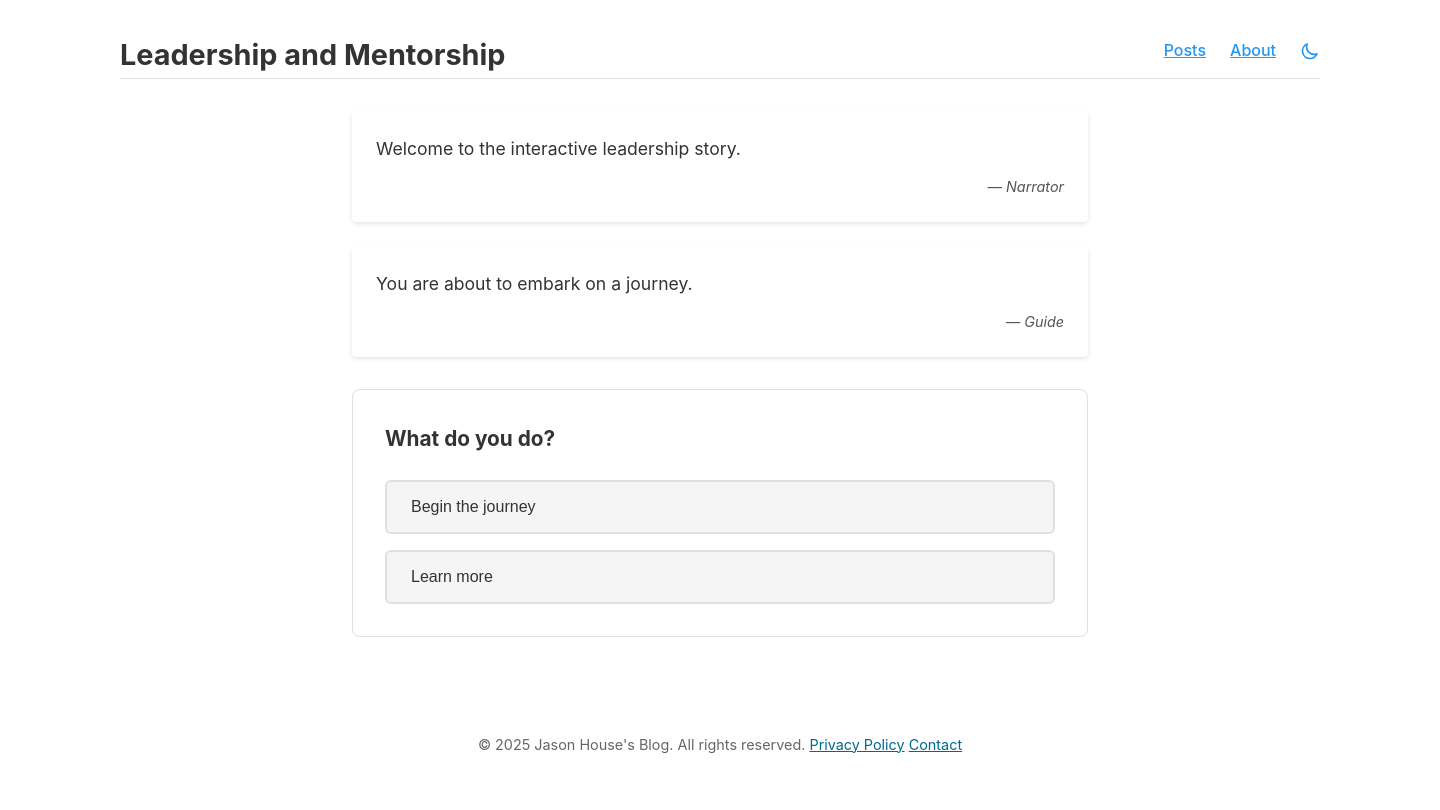
Story Page › Story Navigation › navigates to next node when option is clicked
The image size is (1440, 810).
Click the button "Begin the journey".
click(473, 506)  # box [385, 480, 1055, 534]
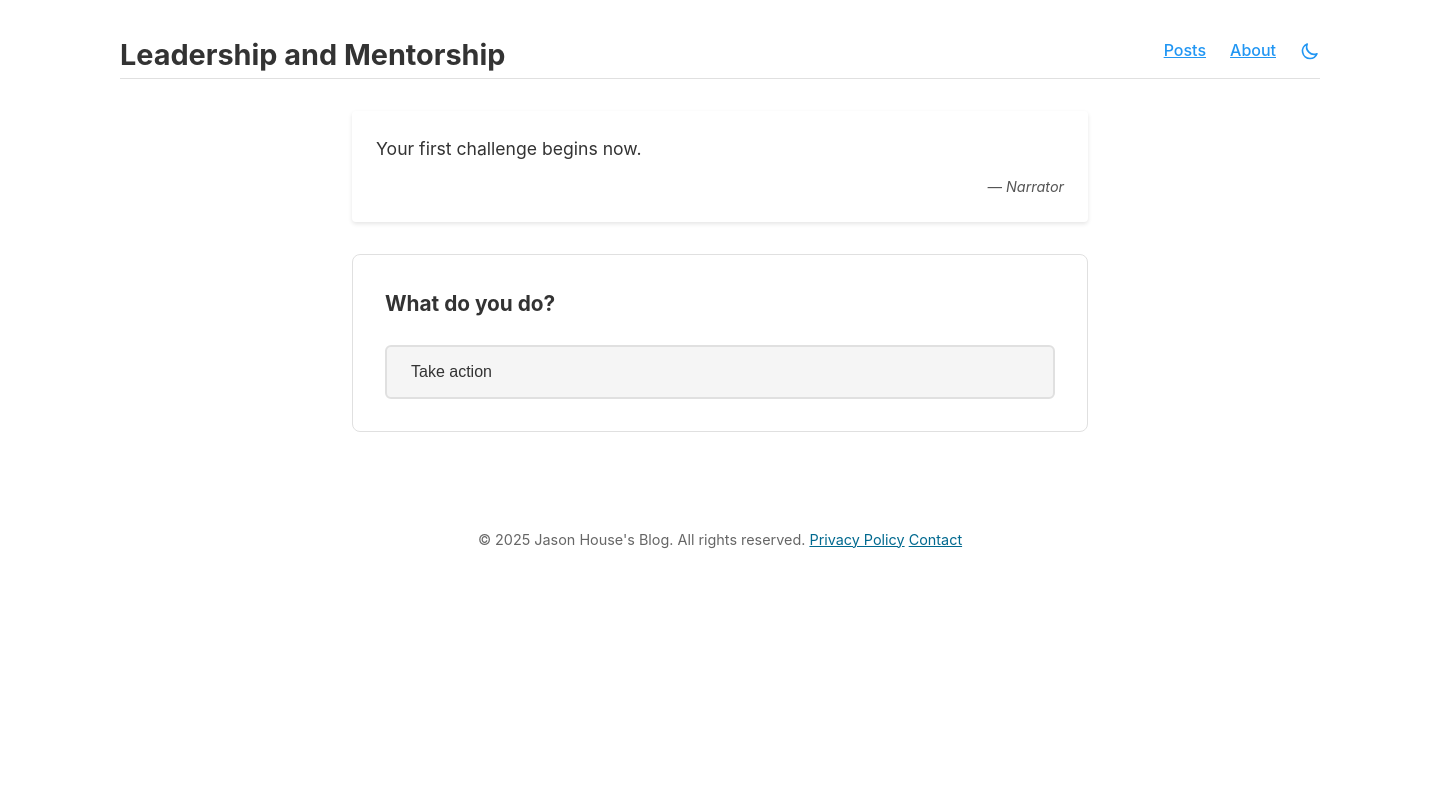
Now the text "Your first challenge begins now." is shown, box [376, 138, 642, 159]
